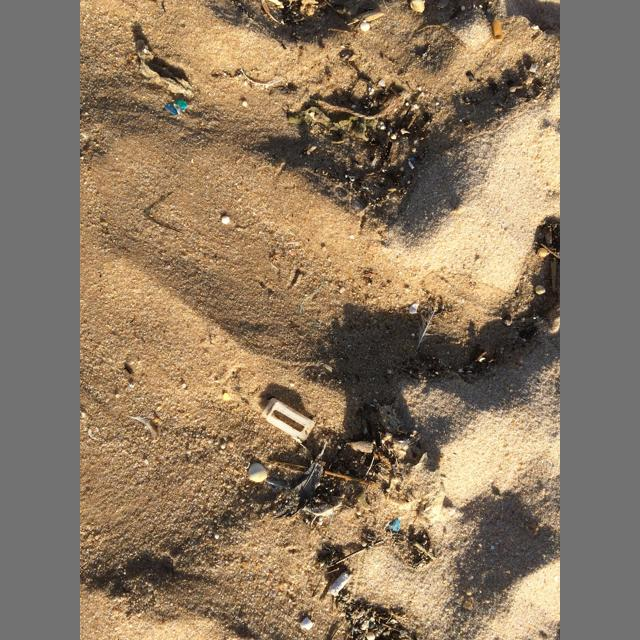litter: (406, 471, 456, 523), (262, 398, 315, 440), (329, 572, 355, 594), (166, 99, 188, 114), (493, 20, 503, 42), (388, 518, 400, 533), (546, 226, 552, 244)
